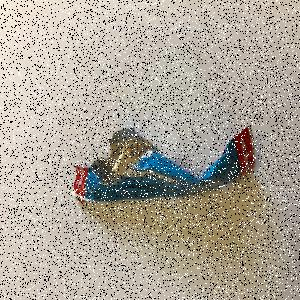Trash: (72, 124, 258, 206)
